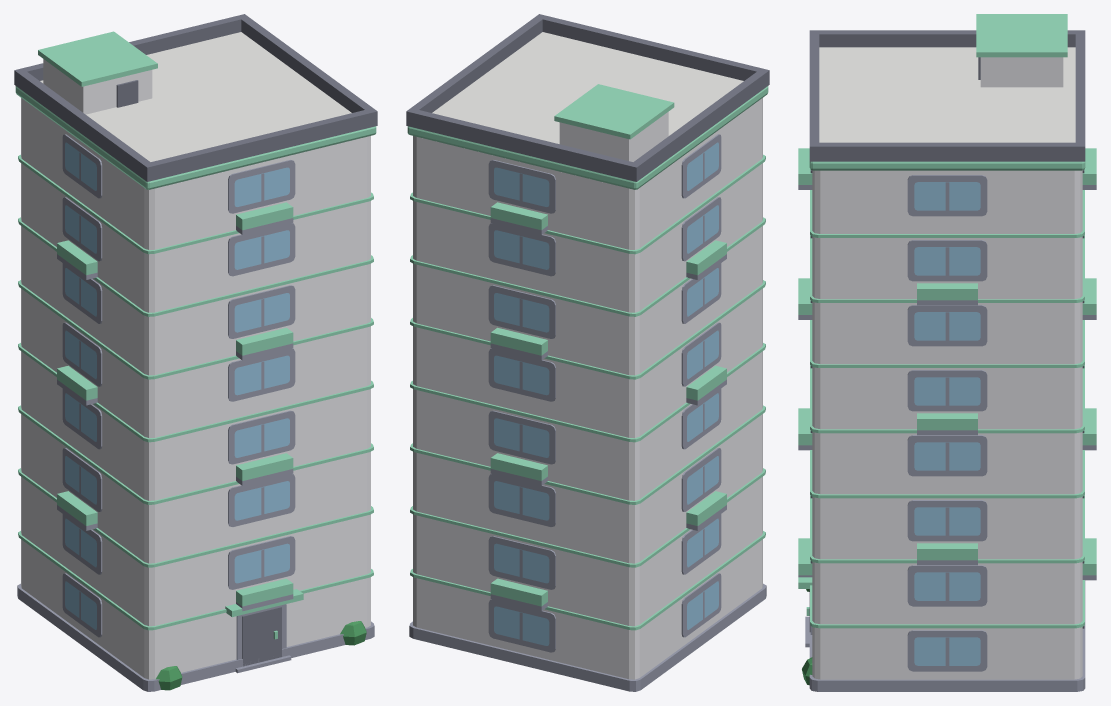
The model's file is tower-1x1-8f-tone-a.glb.
3 views of the same model, side by side, from view 1: azimuth 30°, elevation 25°; view 2: azimuth 150°, elevation 25°; view 3: azimuth 270°, elevation 25° (orthographic). The views are drawn at different scales.
Parts seen in each view (by area): view 1: tower-1x1-8f-tone-a; view 2: tower-1x1-8f-tone-a; view 3: tower-1x1-8f-tone-a.
Boxes of the visible parts, x1,y1,x2,y2 form: tower-1x1-8f-tone-a: (14, 14, 377, 691); tower-1x1-8f-tone-a: (406, 14, 769, 691); tower-1x1-8f-tone-a: (798, 14, 1096, 691).
Size of the model in its own units: 1.08 by 2.28 by 1.08.
1 material, 1 textured.
